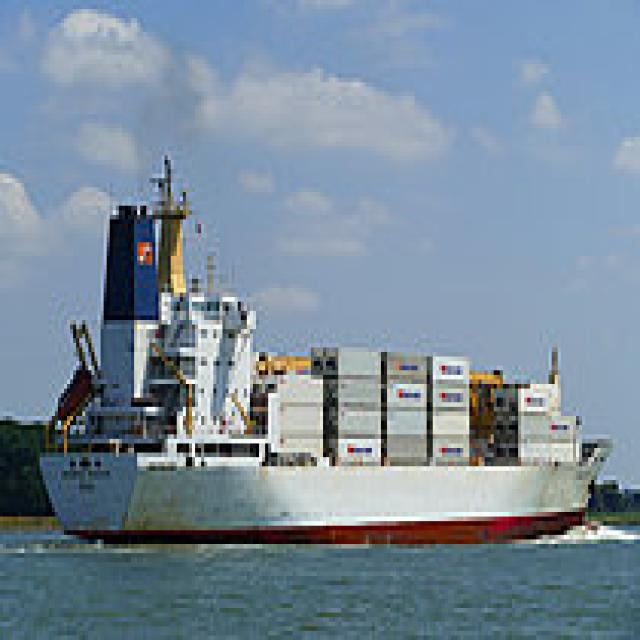Cargo: (28, 142, 612, 544)
